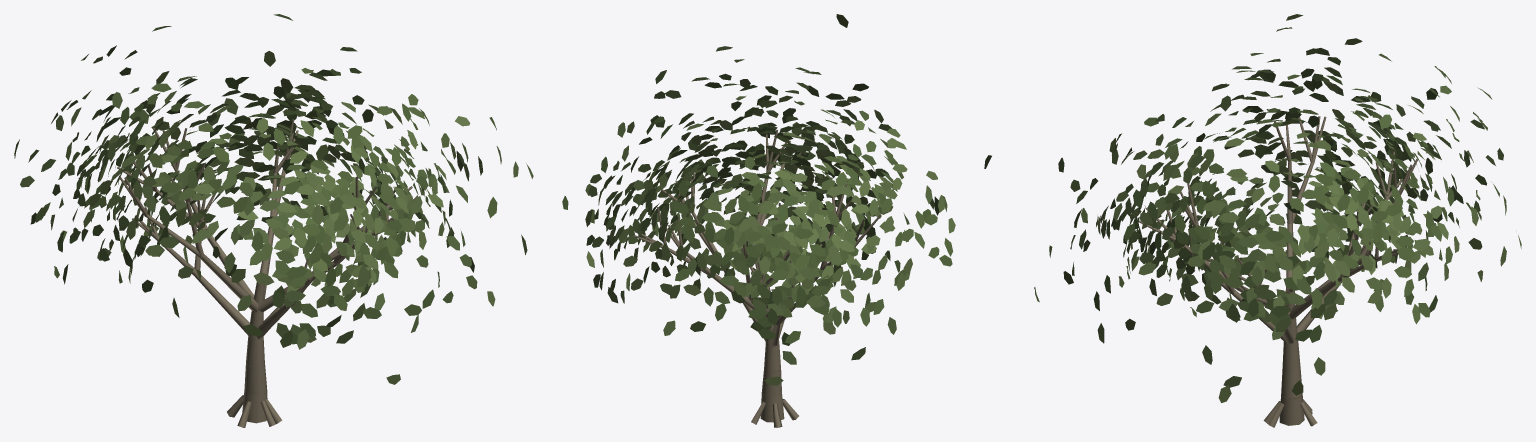
The picture shows the model from 3 angles, left to right: view 1: azimuth 30°, elevation 25°; view 2: azimuth 150°, elevation 25°; view 3: azimuth 270°, elevation 25°; orthographic projection. The views are drawn at different scales.
Visible parts, largest first — view 1: plane_1_LOD0; view 2: plane_1_LOD0; view 3: plane_1_LOD0.
Boxes of the visible parts, left/top/right/bottom form: plane_1_LOD0: left=14, top=14, right=533, bottom=427; plane_1_LOD0: left=562, top=14, right=955, bottom=427; plane_1_LOD0: left=984, top=14, right=1521, bottom=427.
Size of what is drawn, in the model's own units: 3.09 by 2.36 by 3.28.
